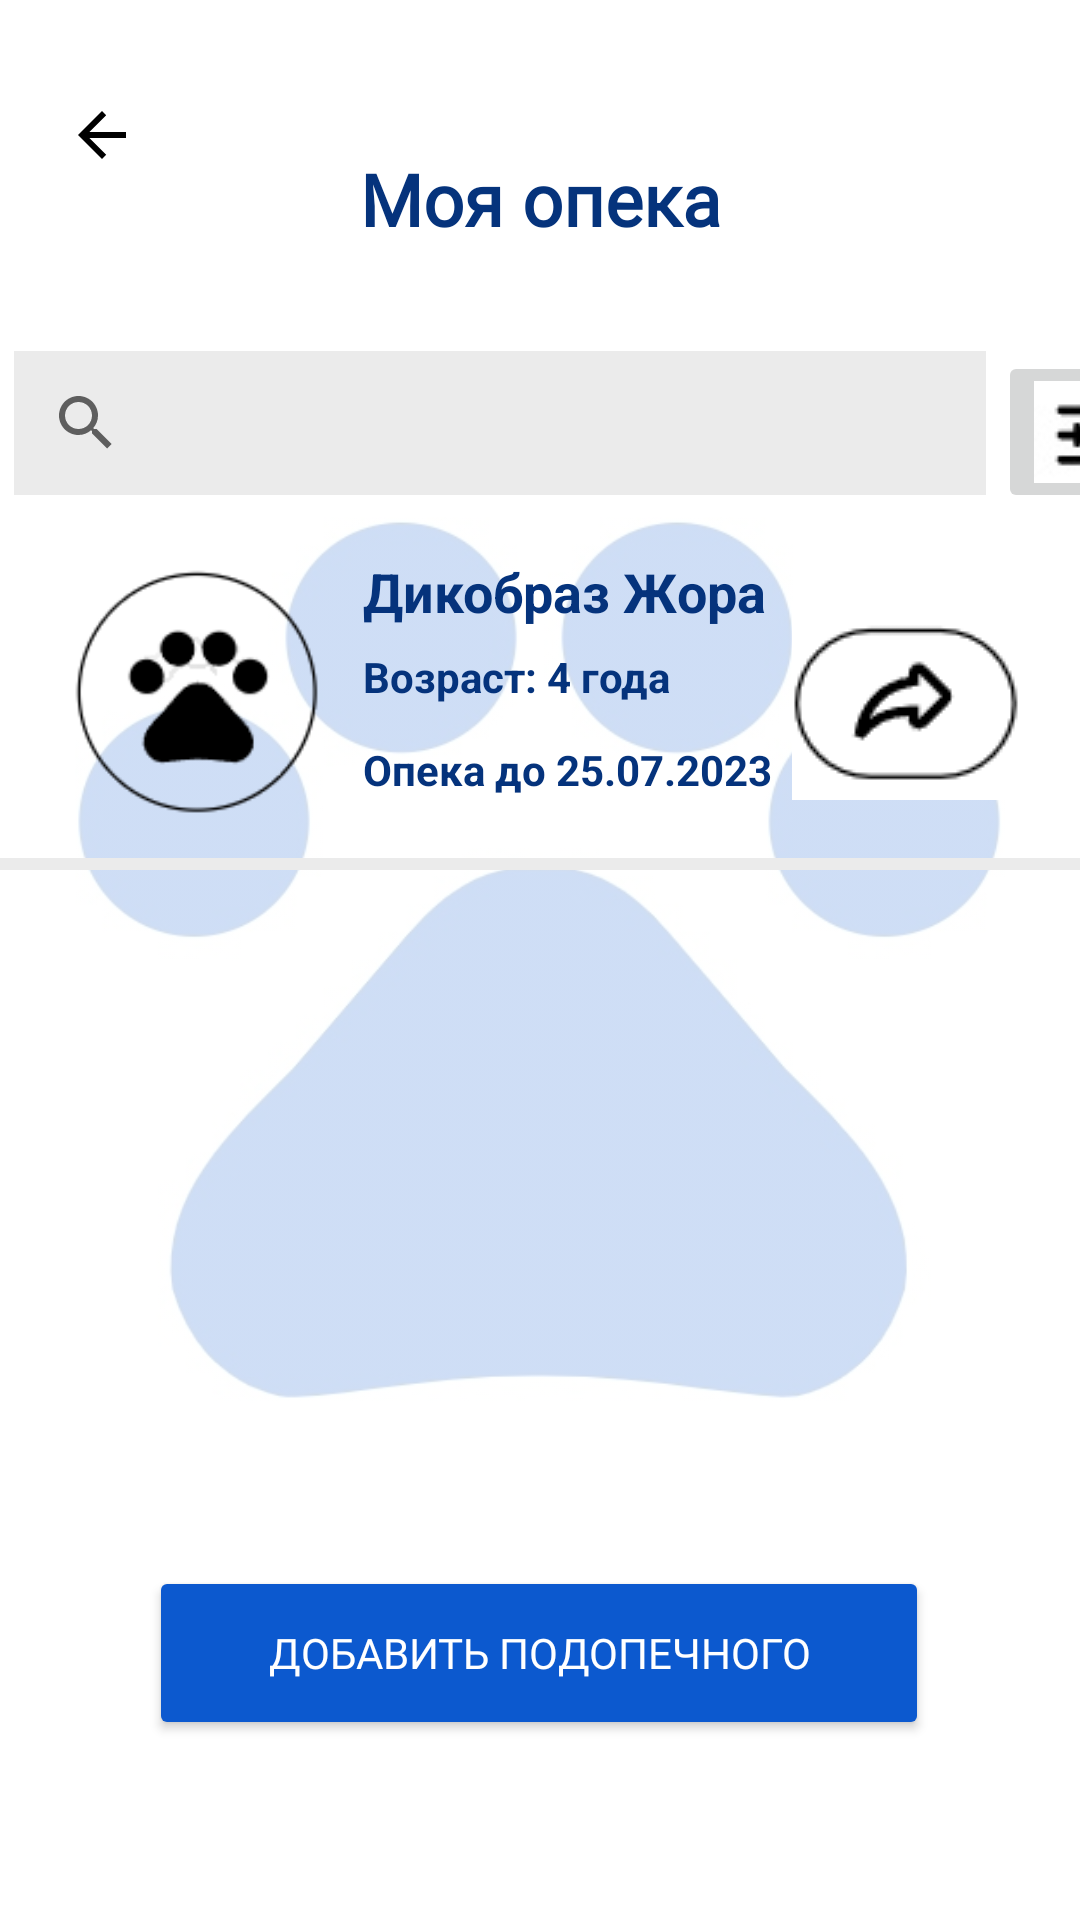

Named icons in this screenshot (1080px×1920px) and their bounding boxes, (x1, y1, x2, y2):
pet: (76, 555, 333, 828)
share: (794, 628, 1018, 780)
